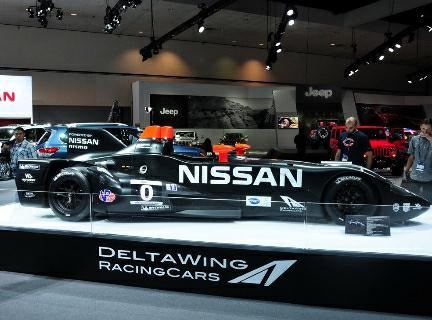日产-DeltaWing: (45, 126, 428, 226)
